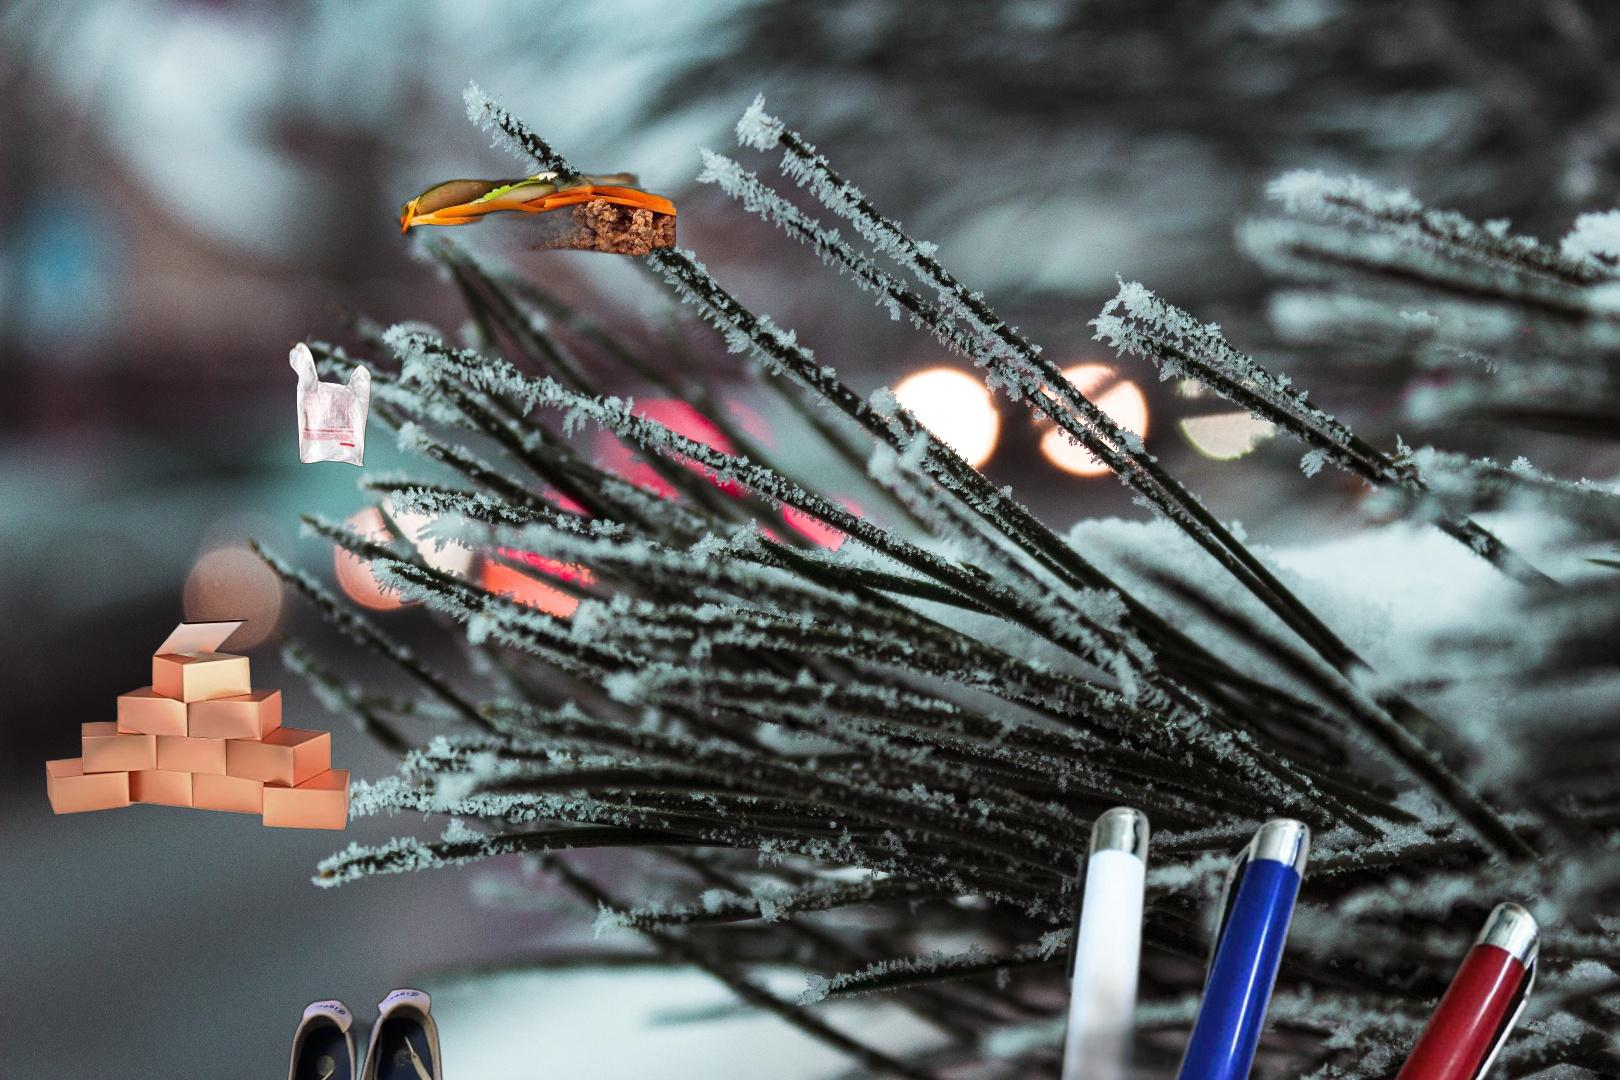biological: (401, 164, 676, 312)
penholder: (1026, 800, 1546, 1080)
plastic-bag: (277, 335, 372, 470)
shoes: (268, 984, 456, 1080)
trashbox-cardboard: (45, 618, 352, 834)
